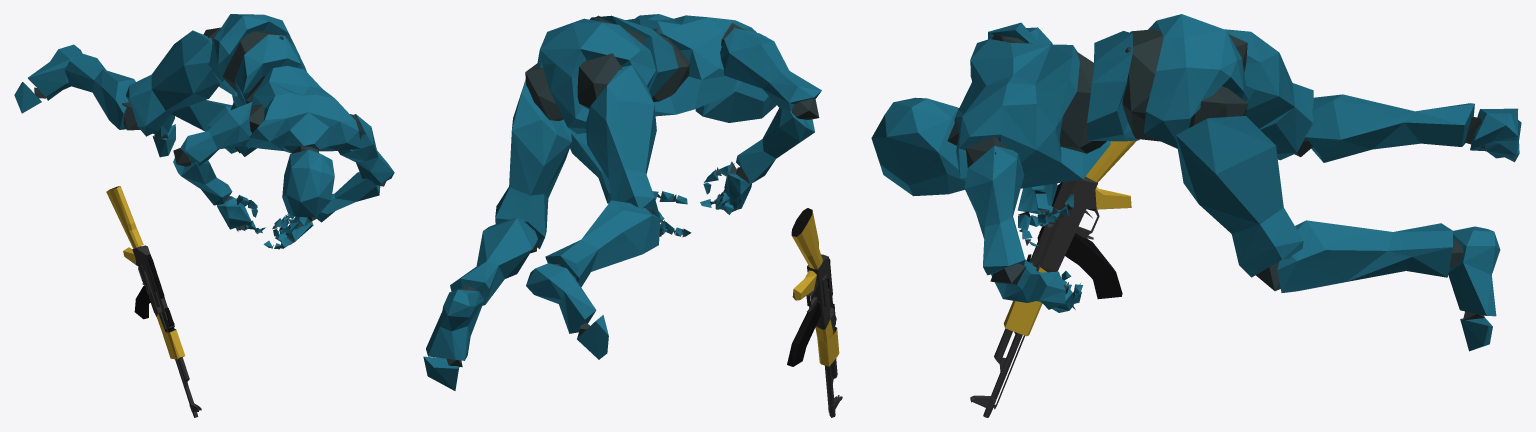
The model's file is EnemyDying_000042.obj.
3 renders of one model, left to right at view 1: azimuth 30°, elevation 25°; view 2: azimuth 150°, elevation 25°; view 3: azimuth 270°, elevation 25°, orthographic. The views are drawn at different scales.
Visible parts, largest first — view 1: Alpha_Surface, AK-47_Cube, Alpha_Joints; view 2: Alpha_Surface, AK-47_Cube, Alpha_Joints; view 3: Alpha_Surface, Alpha_Joints, AK-47_Cube.
Part boxes in pixels (left/top/right/bottom): Alpha_Surface: left=14, top=14, right=394, bottom=249; AK-47_Cube: left=106, top=186, right=201, bottom=417; Alpha_Joints: left=34, top=27, right=386, bottom=248; Alpha_Surface: left=423, top=14, right=821, bottom=390; AK-47_Cube: left=787, top=208, right=842, bottom=417; Alpha_Joints: left=446, top=15, right=819, bottom=367; Alpha_Surface: left=871, top=14, right=1521, bottom=351; Alpha_Joints: left=947, top=29, right=1514, bottom=320; AK-47_Cube: left=970, top=140, right=1136, bottom=417.
Size of the model in its own units: 186 by 245 by 298.
